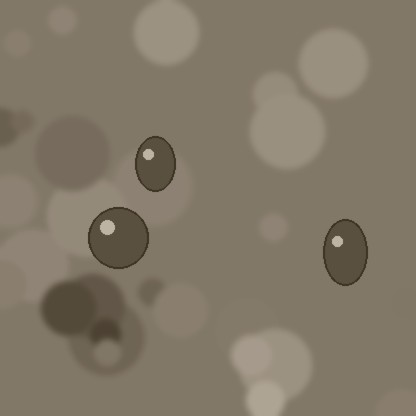gota: (88, 209, 148, 273), (323, 221, 367, 291), (135, 138, 175, 196)
